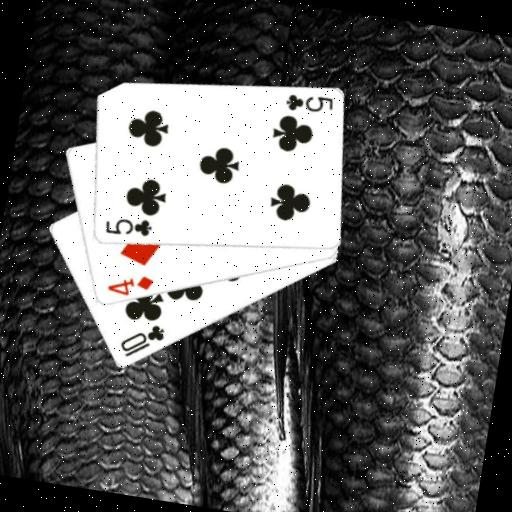10C: (115, 316, 168, 364)
4D: (103, 267, 156, 301)
5C: (100, 210, 154, 242), (280, 87, 335, 118)
